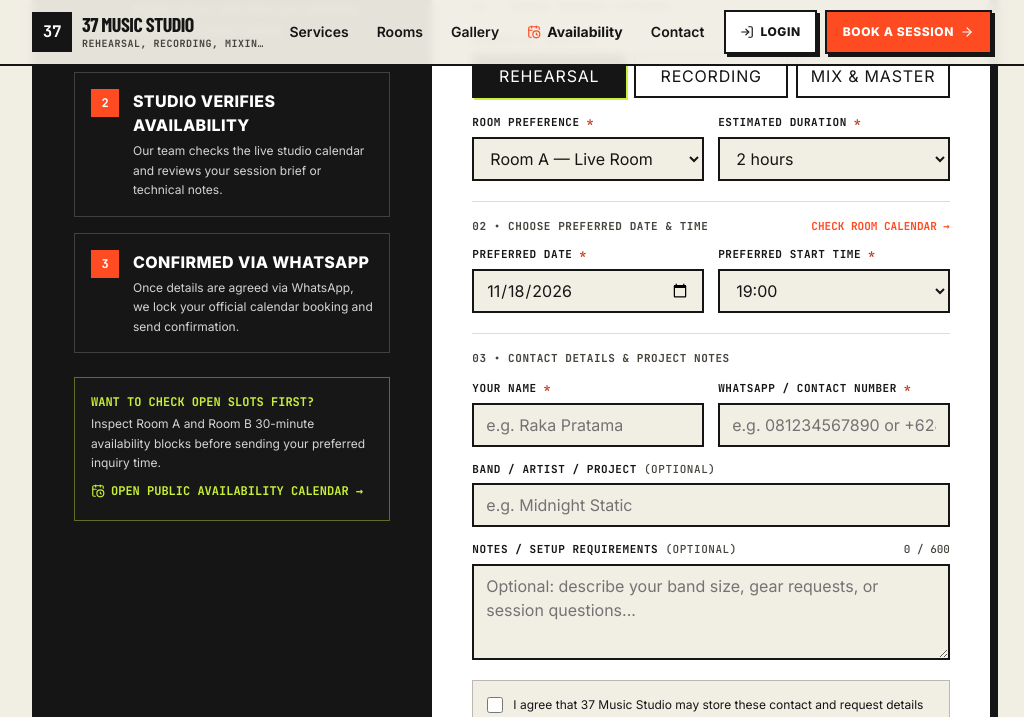
Test case: 37 Music Studio Production Public Website & Booking Requests › re-evaluates today at submit time if the page remains open past midnight
(page scrolled)
Expected: the date field labelled "Preferred Date *" holds "2026-11-18", [472,268,704,312]
Type "Late Night Session" into the field labelled "Your Name *".
click(588, 424); type("Late Night Session")  # box [472,402,704,446]
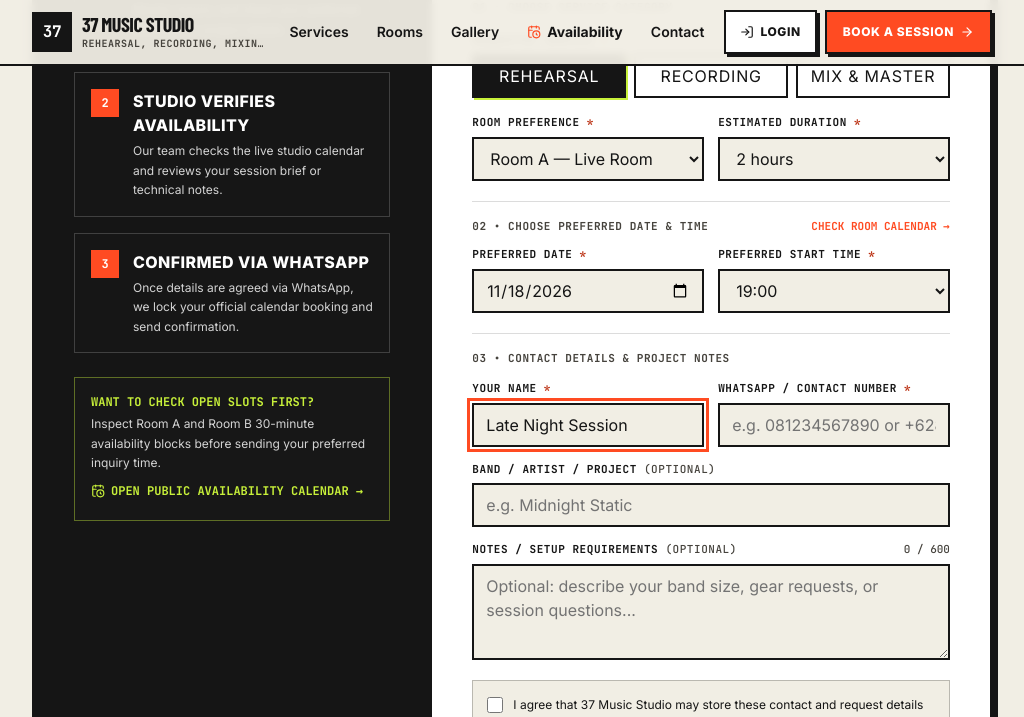
Type "+62 812 0000 1111" into the field labelled "WhatsApp / Contact Number *".
click(834, 424); type("+62 812 0000 1111")  # box [718,402,950,446]
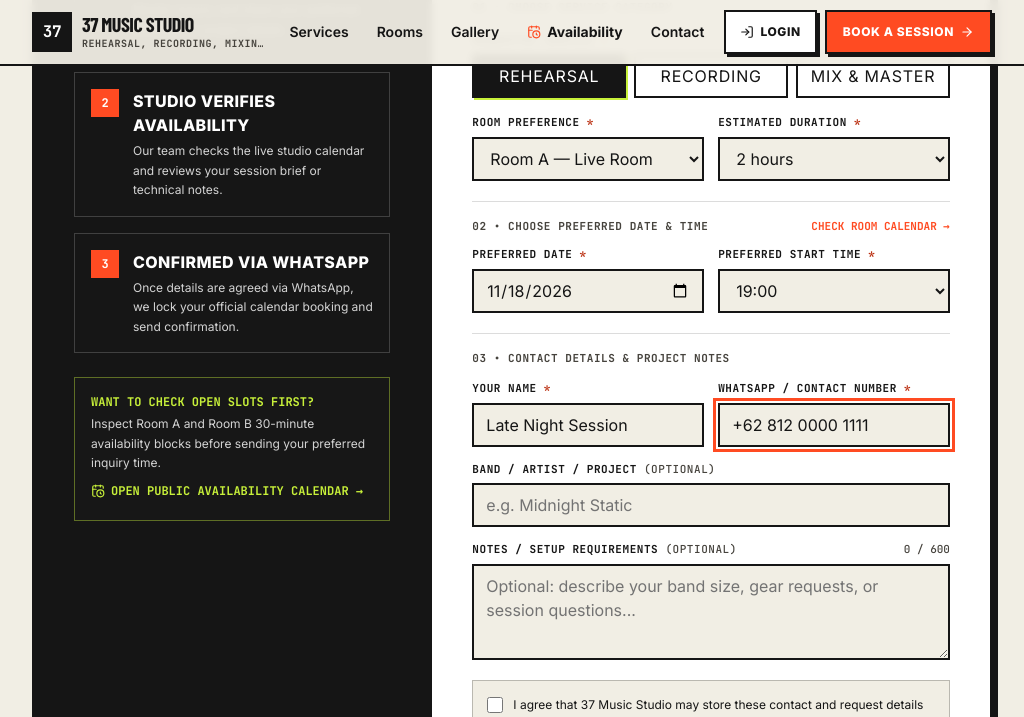
Click the checkbox labelled "I agree that 37 Music Studio".
click(495, 704)  # box [487,696,503,712]
(page scrolled)
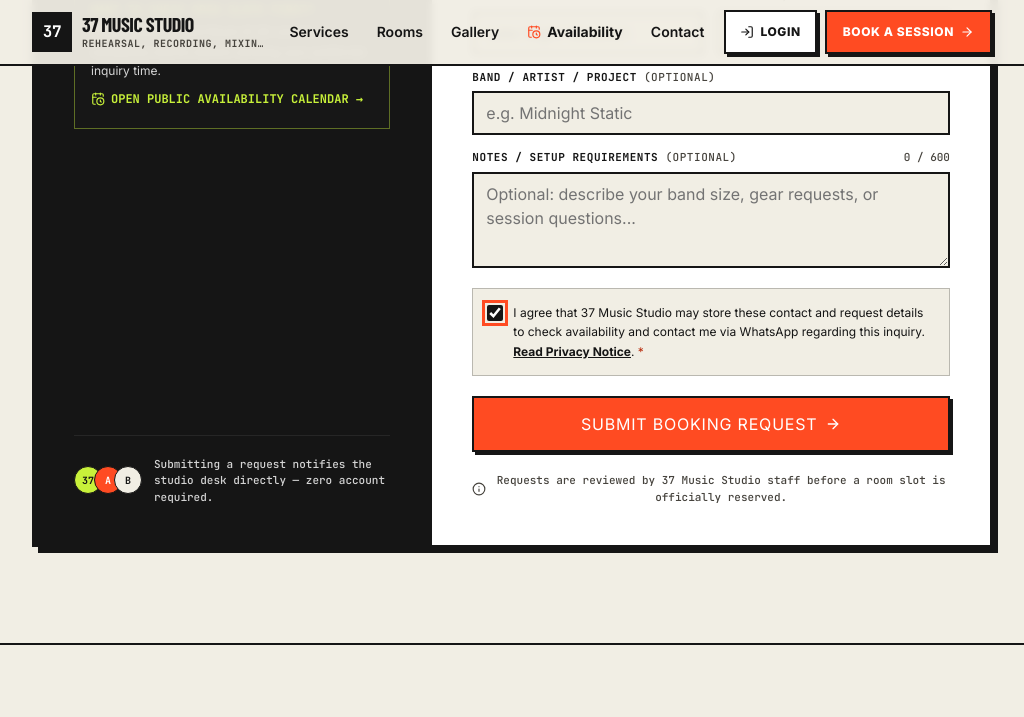
Click the button "Submit booking request".
click(711, 424)  # box [472,396,950,452]
(page scrolled)
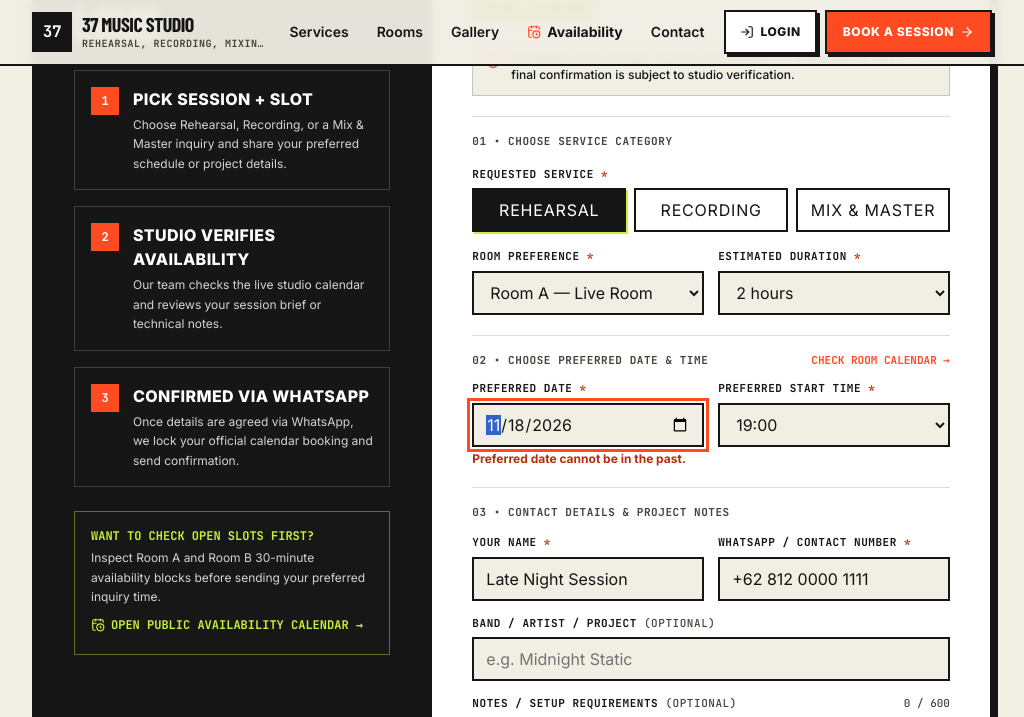
Expected: the text "Preferred date cannot be in the past." is shown, [472,450,704,466]
